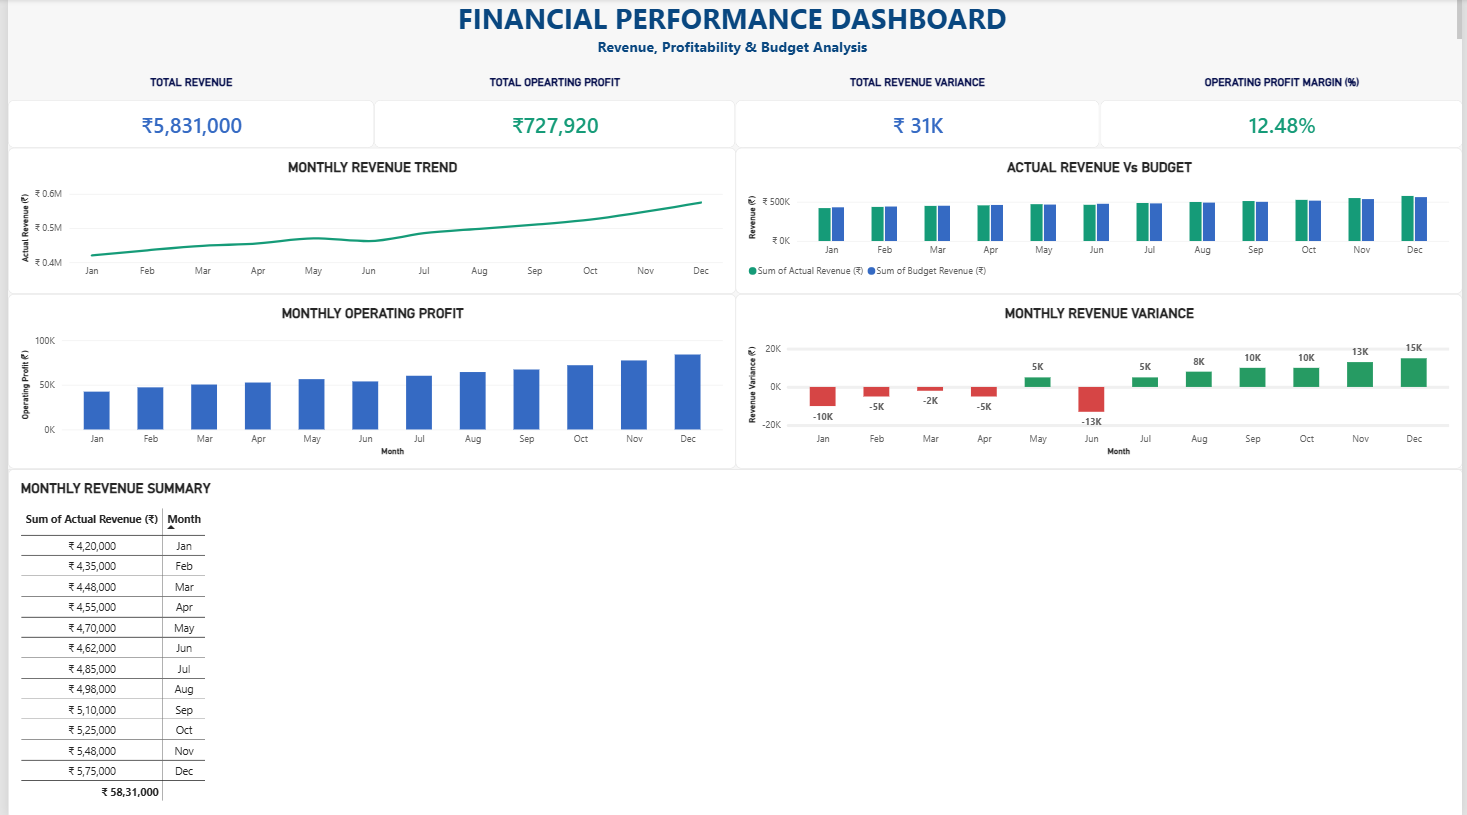

This screenshot's page, from the dashboard's own definition file:
{"tool":"powerbi","page":{"name":"Page 1","canvas":[1920,1080],"ordinal":0},"visuals":[{"type":"cardVisual","title":"TOTAL REVENUE","fields":{"Data":["Monthly_Data.Total Revenue Display"]},"box":[0,100,483.9,96.4],"z":0},{"type":"tableEx","title":"MONTHLY REVENUE SUMMARY","fields":{"Values":["Sum(Monthly_Data.Actual Revenue (₹))","Monthly_Data.Month"]},"box":[0,619.6,1919.7,460.7],"z":1000},{"type":"cardVisual","title":"TOTAL OPEARTING PROFIT","fields":{"Data":["Monthly_Data.Operating Profit Display"]},"box":[483.9,100,476.8,96.4],"z":2000},{"type":"lineChart","title":"MONTHLY REVENUE TREND","fields":{"Category":["Monthly_Data.Month"],"Y":["Sum(Monthly_Data.Actual Revenue (₹))"]},"box":[0,196.4,960.7,192.9],"z":3000},{"type":"cardVisual","title":"TOTAL REVENUE VARIANCE","fields":{"Data":["Monthly_Data.Total Revenue Variance"]},"box":[960.7,100,480.4,96.4],"z":4000},{"type":"clusteredColumnChart","title":"ACTUAL REVENUE Vs BUDGET","fields":{"Category":["Monthly_Data.Month"],"Y":["Sum(Monthly_Data.Actual Revenue (₹))","Sum(Monthly_Data.Budget Revenue (₹))"]},"box":[960.7,196.4,958.9,192.9],"z":5000},{"type":"cardVisual","title":"OPERATING PROFIT MARGIN (%)","fields":{"Data":["Monthly_Data.Annual Operating Profit Margin %"]},"box":[1441.1,100,478.6,96.4],"z":6000},{"type":"clusteredColumnChart","title":"MONTHLY OPERATING PROFIT","fields":{"Category":["Monthly_Data.Month"],"Y":["Sum(Monthly_Data.Operating Profit (₹))"]},"box":[0,389.3,960.7,230.4],"z":7000},{"type":"clusteredColumnChart","title":"MONTHLY REVENUE VARIANCE","fields":{"Category":["Monthly_Data.Month"],"Y":["Sum(Monthly_Data.Revenue Variance (₹))"]},"box":[960.7,389.3,958.9,230.4],"z":8000},{"type":"textbox","box":[0,0,1919.7,76.8],"z":8001}]}

Visuals, with their boxes in screenshot pixels (x1, y1, x2, y2), scaled from the page's 1920x1080 canvas onto the 1467x815 screenshot:
"TOTAL REVENUE" cardVisual: [0,75,370,148]
"MONTHLY REVENUE SUMMARY" tableEx: [0,468,1466,814]
"TOTAL OPEARTING PROFIT" cardVisual: [370,75,734,148]
"MONTHLY REVENUE TREND" lineChart: [0,148,734,294]
"TOTAL REVENUE VARIANCE" cardVisual: [734,75,1101,148]
"ACTUAL REVENUE Vs BUDGET" clusteredColumnChart: [734,148,1466,294]
"OPERATING PROFIT MARGIN (%)" cardVisual: [1101,75,1466,148]
"MONTHLY OPERATING PROFIT" clusteredColumnChart: [0,294,734,468]
"MONTHLY REVENUE VARIANCE" clusteredColumnChart: [734,294,1466,468]
textbox: [0,0,1466,58]
